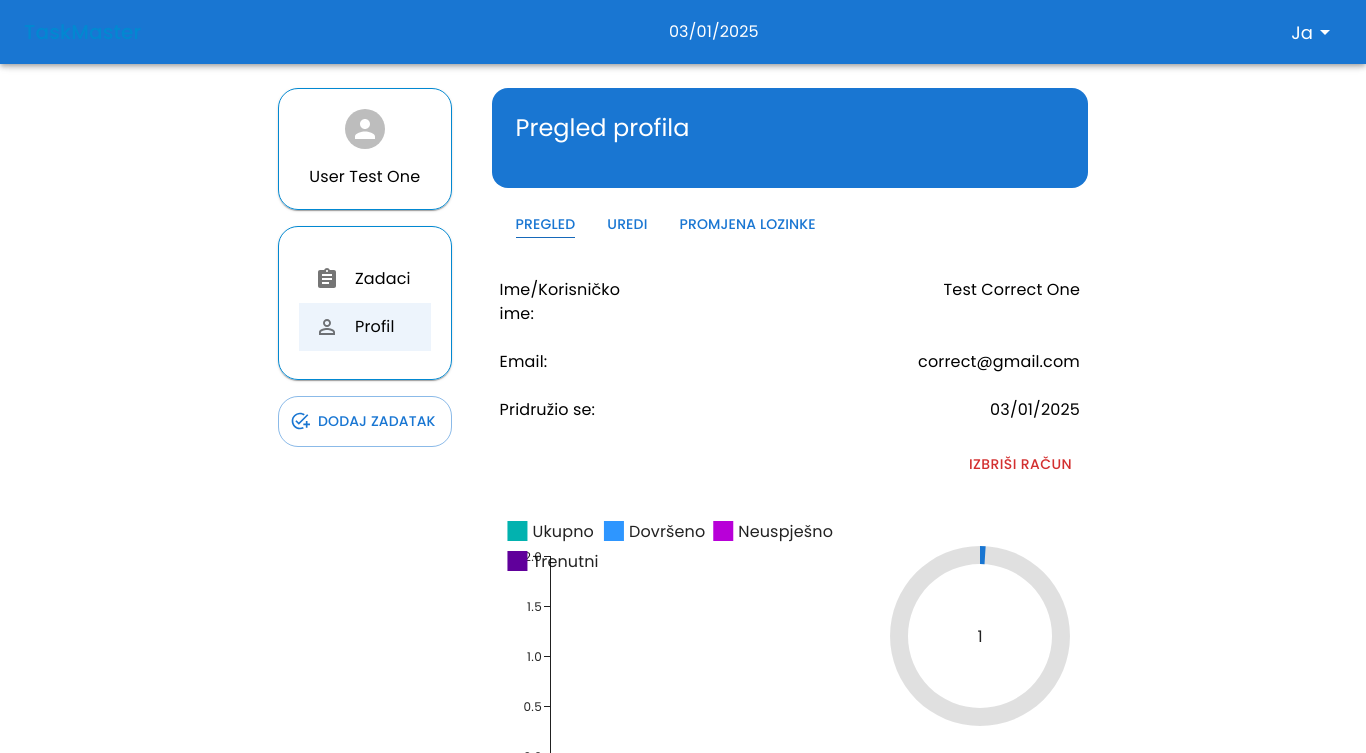
Scenario: Profile Layout component testing › Should navigate to the Edit Profile page - bosnian language
The width and height of the screenshot is (1366, 753).
Click the link with aria-label "link-/profile/edit" at (627, 225), box [607,212,647,238]
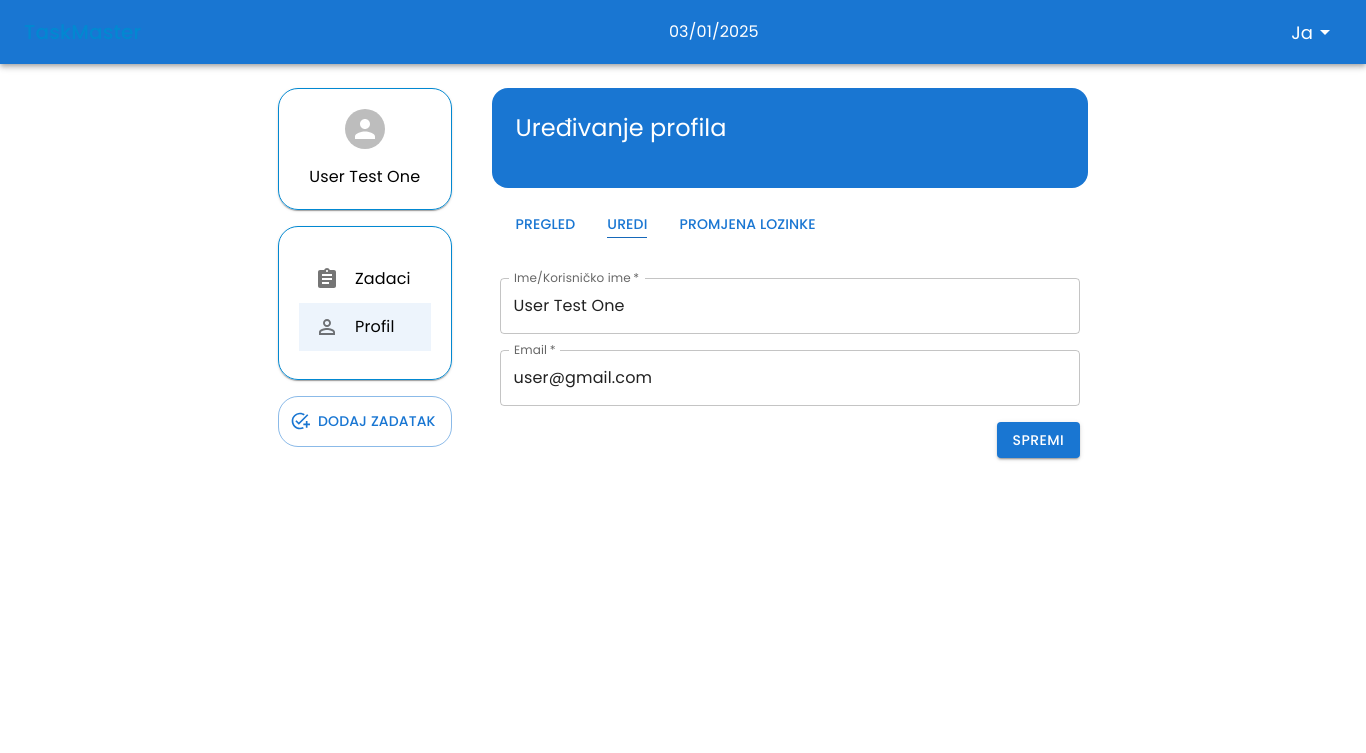
Result: the heading "Uređivanje profila" is shown at [516,111,726,144]
